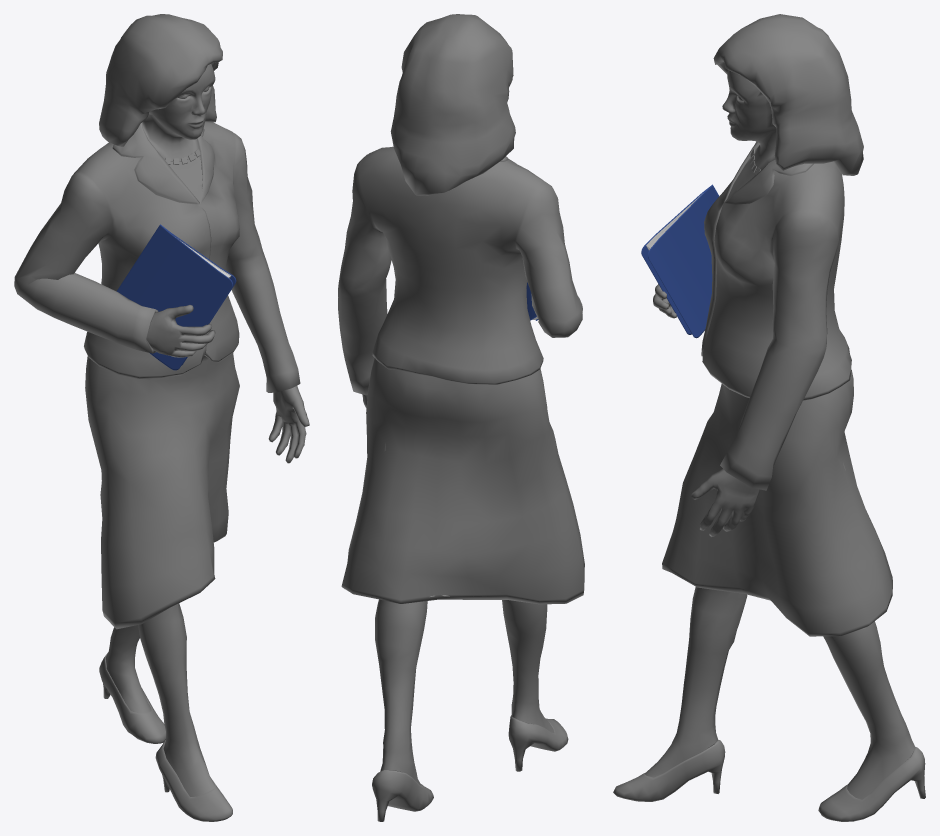
The picture shows the model from 3 angles, left to right: view 1: azimuth 30°, elevation 25°; view 2: azimuth 150°, elevation 25°; view 3: azimuth 270°, elevation 25°; orthographic projection. The views are drawn at different scales.
Parts seen in each view (by area): view 1: 3D_people_female_05_pose_b; view 2: 3D_people_female_05_pose_b; view 3: 3D_people_female_05_pose_b.
Boxes of the visible parts, box(x1,y1,x2,y2) form: 3D_people_female_05_pose_b: box(14, 14, 309, 821); 3D_people_female_05_pose_b: box(338, 14, 584, 821); 3D_people_female_05_pose_b: box(613, 14, 925, 821).
Size of the model in its own units: 62.65 by 178 by 63.96.
